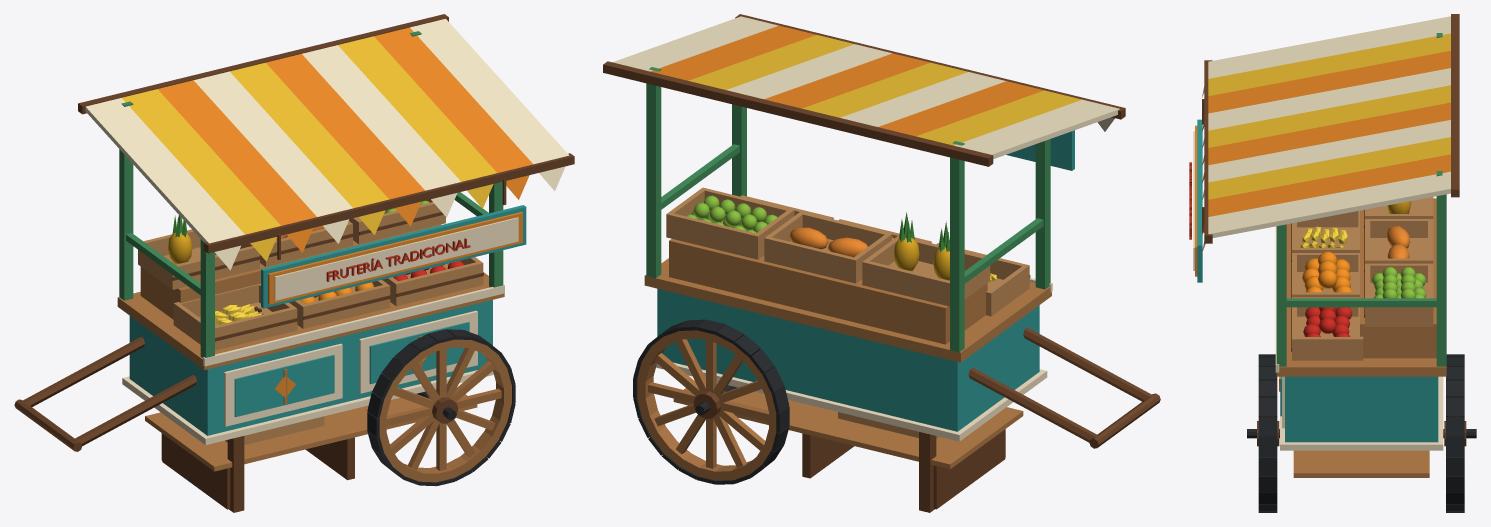
Rendered from carrito-frutas-1.glb.
3 renders of one model, left to right at view 1: azimuth 30°, elevation 25°; view 2: azimuth 150°, elevation 25°; view 3: azimuth 270°, elevation 25°, orthographic. The views are drawn at different scales.
Parts seen in each view (by area): view 1: Carrito_Frutas_1_ToldoCrema, Carrito_Frutas_1_ToldoNaranja, Carrito_Frutas_1_ToldoAmarillo, Carrito_Frutas_1_MaderaOscura, Carrito_Frutas_1_CuerpoTurquesa, Carrito_Frutas_1_MaderaCajon, Carrito_Frutas_1_TapaMadera, Carrito_Frutas_1_PanelCrema, Carrito_Frutas_1_RuedaMadera, Carrito_Frutas_1_PosteVerde, Carrito_Frutas_1_Crema, Carrito_Frutas_1_Hierro (+7 smaller); view 2: Carrito_Frutas_1_TapaMadera, Carrito_Frutas_1_CuerpoTurquesa, Carrito_Frutas_1_MaderaOscura, Carrito_Frutas_1_MaderaCajon, Carrito_Frutas_1_ToldoCrema, Carrito_Frutas_1_PosteVerde, Carrito_Frutas_1_RuedaMadera, Carrito_Frutas_1_ToldoNaranja, Carrito_Frutas_1_ToldoAmarillo, Carrito_Frutas_1_Hierro, Carrito_Frutas_1_Crema, Carrito_Frutas_1_FrutaLima (+3 smaller); view 3: Carrito_Frutas_1_ToldoCrema, Carrito_Frutas_1_ToldoAmarillo, Carrito_Frutas_1_ToldoNaranja, Carrito_Frutas_1_MaderaCajon, Carrito_Frutas_1_TapaMadera, Carrito_Frutas_1_CuerpoTurquesa, Carrito_Frutas_1_Hierro, Carrito_Frutas_1_PosteVerde, Carrito_Frutas_1_MaderaOscura, Carrito_Frutas_1_Crema, Carrito_Frutas_1_FrutaNaranja, Carrito_Frutas_1_FrutaLima (+6 smaller).
Boxes of the visible parts, box(x1,y1,x2,y2) form: Carrito_Frutas_1_ToldoCrema: box(85, 18, 569, 243); Carrito_Frutas_1_ToldoNaranja: box(158, 27, 532, 225); Carrito_Frutas_1_ToldoAmarillo: box(122, 36, 496, 234); Carrito_Frutas_1_MaderaOscura: box(14, 14, 574, 512); Carrito_Frutas_1_CuerpoTurquesa: box(129, 300, 492, 435); Carrito_Frutas_1_MaderaCajon: box(138, 199, 483, 445); Carrito_Frutas_1_TapaMadera: box(117, 224, 504, 471); Carrito_Frutas_1_PanelCrema: box(224, 217, 518, 426); Carrito_Frutas_1_RuedaMadera: box(379, 339, 511, 482); Carrito_Frutas_1_PosteVerde: box(119, 31, 503, 357); Carrito_Frutas_1_Crema: box(122, 284, 504, 444); Carrito_Frutas_1_Hierro: box(367, 329, 515, 486); Carrito_Frutas_1_TapaMadera: box(644, 239, 1051, 469); Carrito_Frutas_1_CuerpoTurquesa: box(657, 288, 1039, 431); Carrito_Frutas_1_MaderaOscura: box(603, 14, 1160, 512); Carrito_Frutas_1_MaderaCajon: box(666, 187, 1029, 438); Carrito_Frutas_1_ToldoCrema: box(613, 16, 1119, 158); Carrito_Frutas_1_PosteVerde: box(646, 67, 1050, 352); Carrito_Frutas_1_RuedaMadera: box(637, 330, 776, 480); Carrito_Frutas_1_ToldoNaranja: box(650, 25, 1043, 136); Carrito_Frutas_1_ToldoAmarillo: box(688, 35, 1081, 145); Carrito_Frutas_1_Hierro: box(633, 319, 789, 484); Carrito_Frutas_1_Crema: box(656, 278, 1052, 441); Carrito_Frutas_1_FrutaLima: box(686, 195, 777, 233); Carrito_Frutas_1_ToldoCrema: box(1208, 16, 1450, 237); Carrito_Frutas_1_ToldoAmarillo: box(1208, 33, 1450, 199); Carrito_Frutas_1_ToldoNaranja: box(1208, 50, 1450, 216); Carrito_Frutas_1_MaderaCajon: box(1292, 197, 1433, 360); Carrito_Frutas_1_TapaMadera: box(1276, 198, 1446, 477); Carrito_Frutas_1_CuerpoTurquesa: box(1280, 376, 1438, 442); Carrito_Frutas_1_Hierro: box(1247, 354, 1476, 512); Carrito_Frutas_1_PosteVerde: box(1276, 33, 1446, 366); Carrito_Frutas_1_MaderaOscura: box(1202, 14, 1466, 446); Carrito_Frutas_1_Crema: box(1275, 226, 1443, 450); Carrito_Frutas_1_FrutaNaranja: box(1302, 251, 1352, 292); Carrito_Frutas_1_FrutaLima: box(1372, 267, 1426, 298).
Size of the model in its own units: 3 by 2.36 by 1.69.
